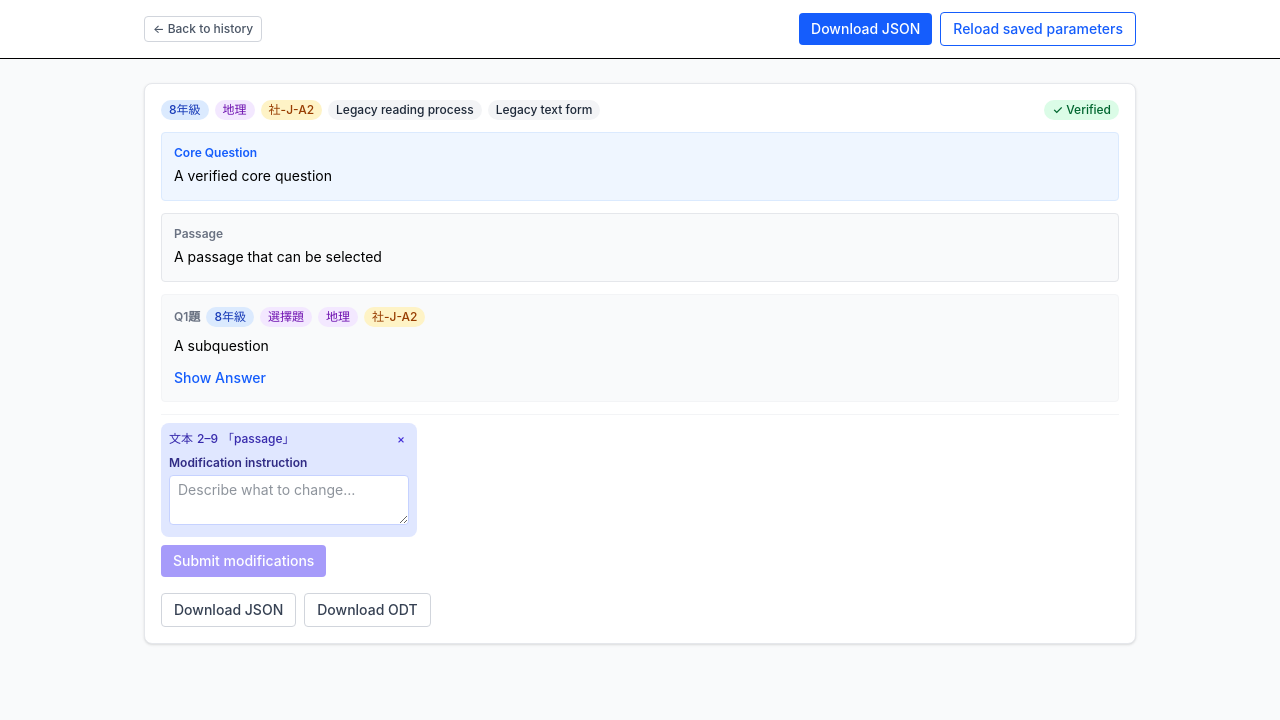
Test case: HistoryDetail 人工審題修正 integration › surfaces a not_latest_version pre-flight rejection in the history page card
Check: the text "A passage that can be selected" is shown, box [174,248,382,265]
Type "Fix this wording" into the text box named "Modification instruction 1" at x=289, y=500, box [169,475,409,525]
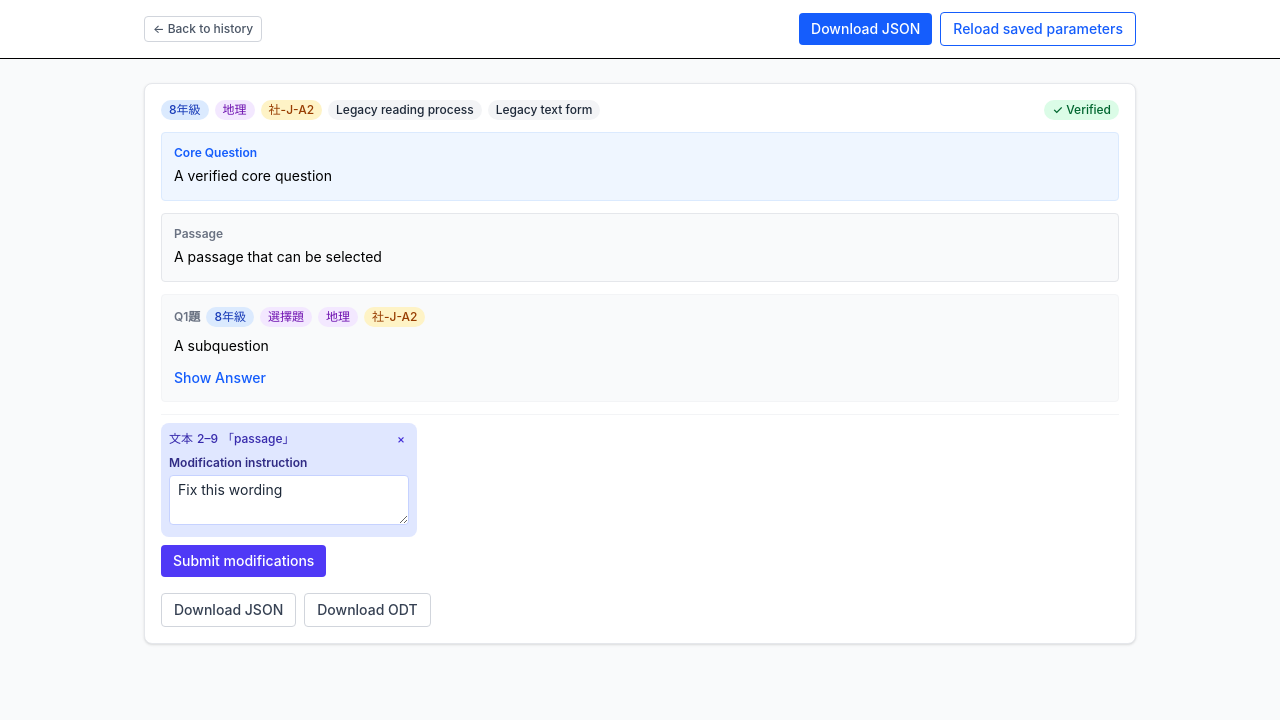
Click the button "Submit modifications" at x=244, y=561, box [161,545,326,577]
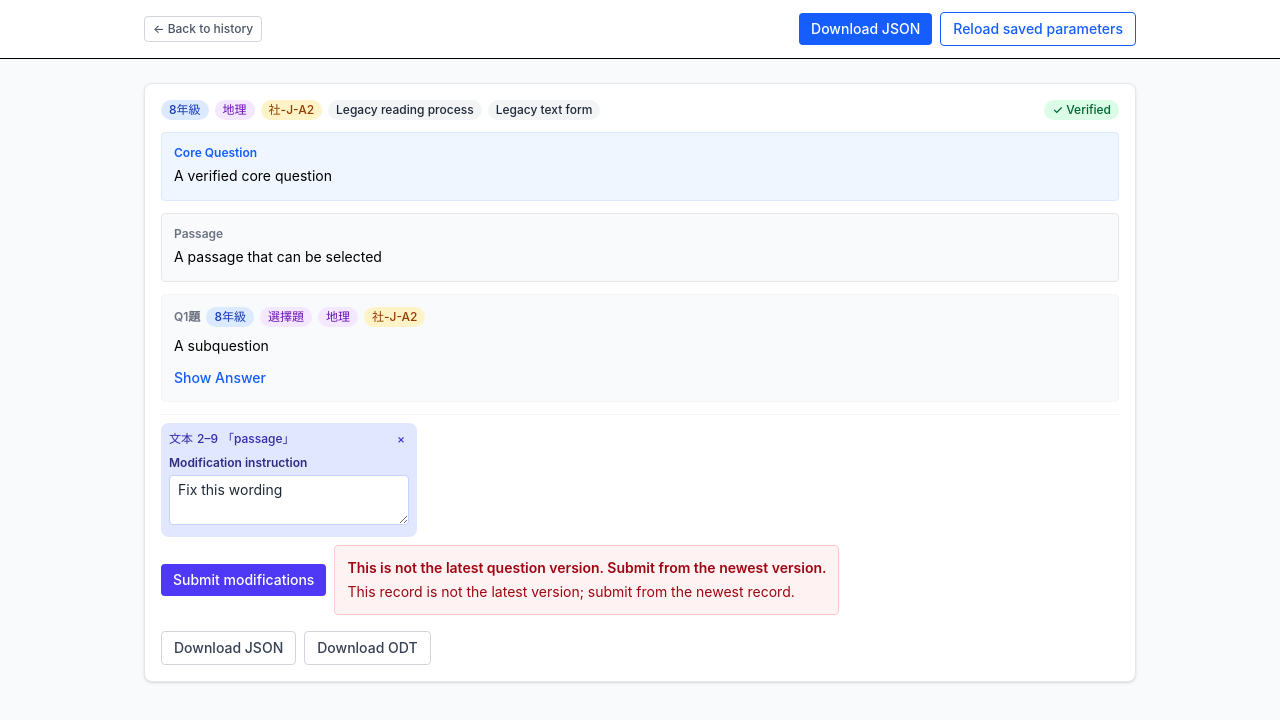
Check: the message shows "This record is not the latest version", box [347,583,795,600]
